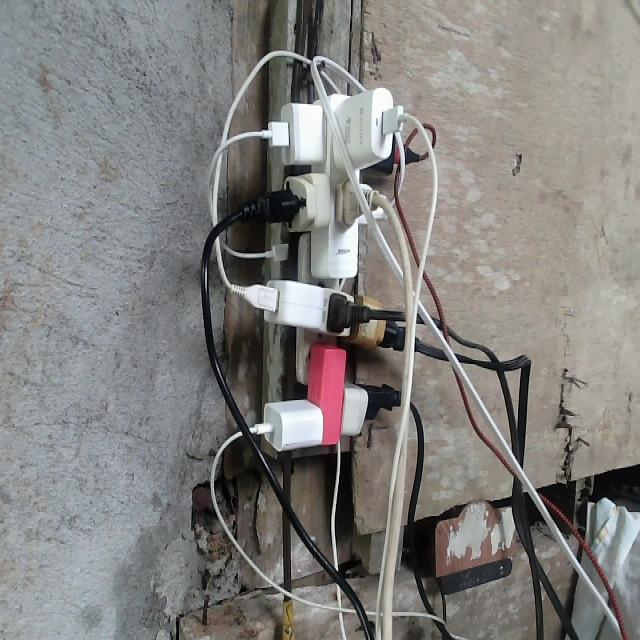-: (237, 85, 422, 451)
